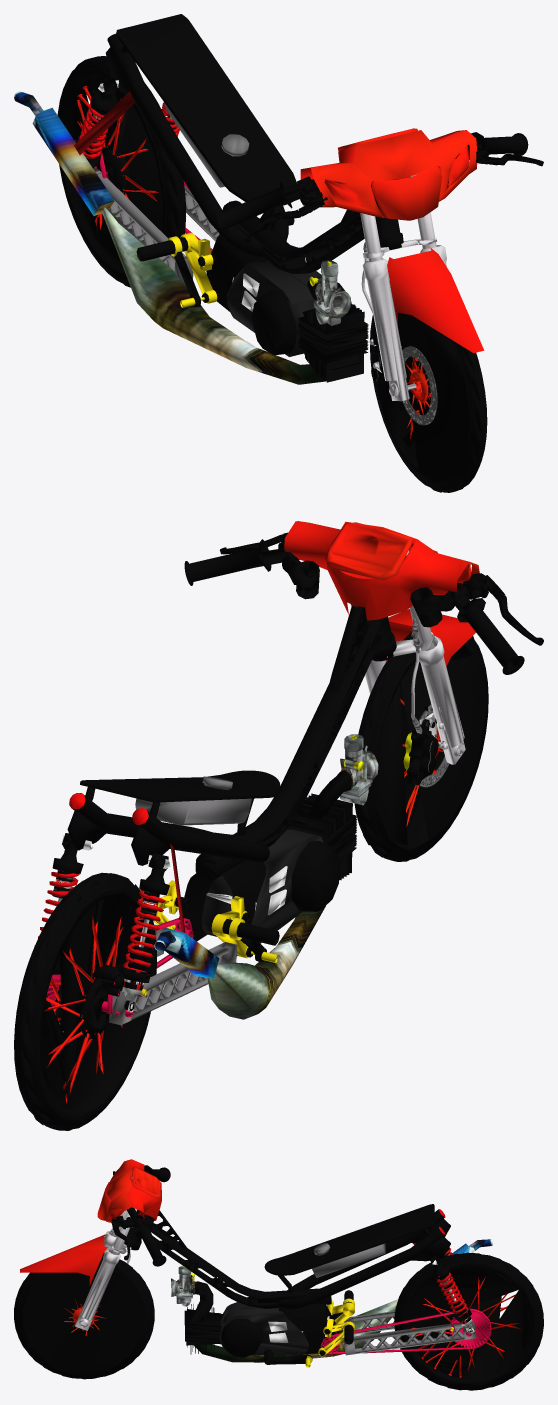
Rendered from fiz r rangka.fbx.
3 renders of one model, top to bottom at view 1: azimuth 30°, elevation 25°; view 2: azimuth 150°, elevation 25°; view 3: azimuth 270°, elevation 25°, orthographic. The views are drawn at different scales.
Visible parts, largest first — view 1: body, steer, ban depan, ban belakang, axle depan, rear; view 2: body, ban belakang, steer, ban depan, rear, axle depan; view 3: body, ban belakang, ban depan, rear, steer, axle depan.
Part boxes in pixels (x1,y1,x2,y2): body: (14,14,403,384); steer: (214,128,543,262); ban depan: (370,281,487,492); ban belakang: (57,56,185,287); axle depan: (361,242,484,401); rear: (74,78,219,285); body: (67,606,396,1019); ban belakang: (14,872,156,1130); steer: (184,521,543,674); ban depan: (354,631,488,861); rear: (34,833,237,1025); axle depan: (365,609,475,785); body: (124,1204,492,1367); ban belakang: (394,1252,543,1390); ban depan: (14,1253,154,1379); rear: (320,1247,491,1355); steer: (97,1159,170,1266); axle depan: (20,1231,130,1330).
Bounding box in the file's own units: 0.8743 × 2.07 × 0.9263.
Materials: 28 (15 with a texture image).
